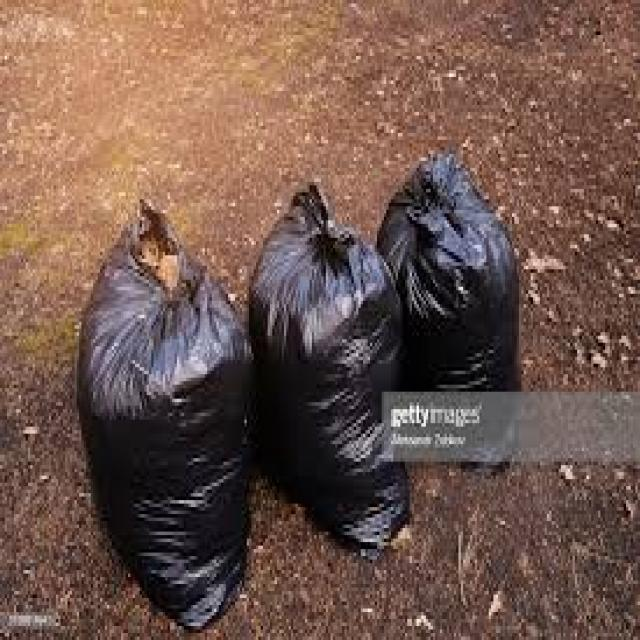plastic_bag: (76, 180, 260, 610), (260, 186, 409, 522), (401, 166, 520, 446)
